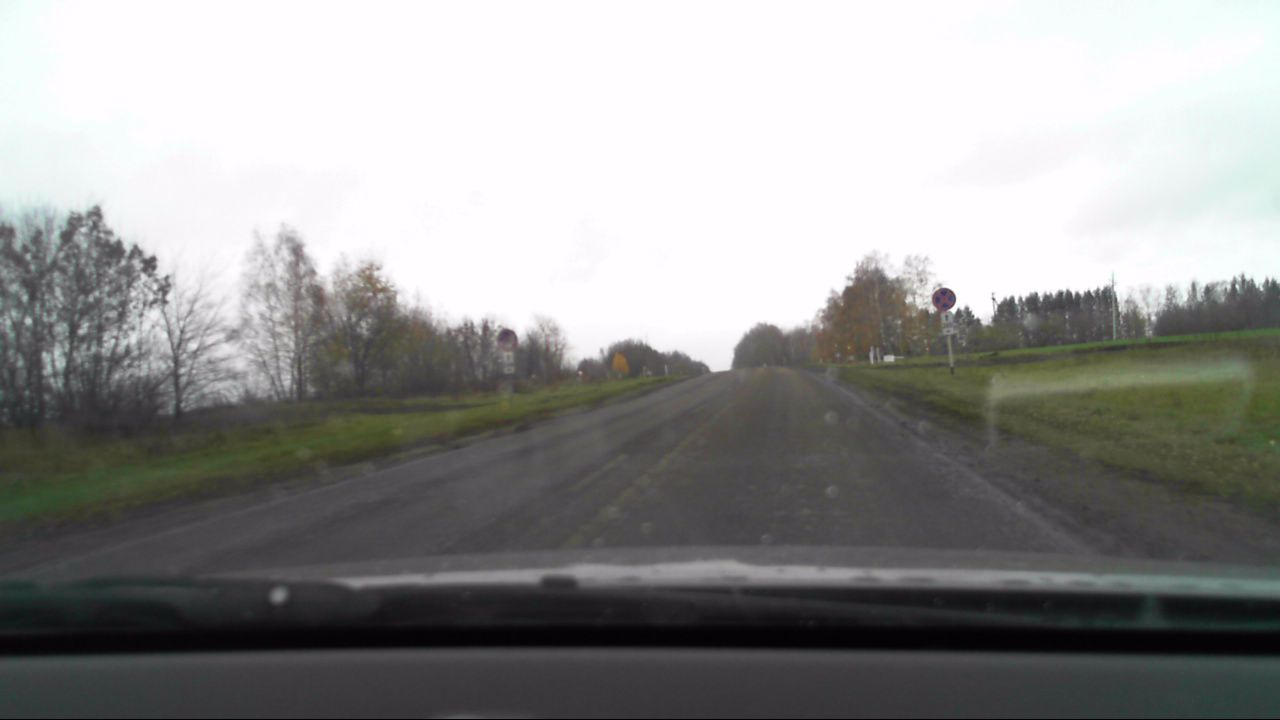No Parking: (493, 328, 517, 351)
